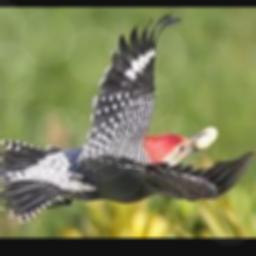Woodpecker: (0, 14, 255, 223)
